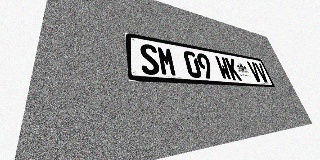0: (183, 50, 202, 78)
9: (196, 52, 215, 79)
K: (225, 57, 242, 81)
M: (156, 46, 177, 77)
S: (139, 43, 161, 75)
V: (247, 61, 263, 82), (254, 62, 270, 83)
W: (214, 56, 233, 80)
